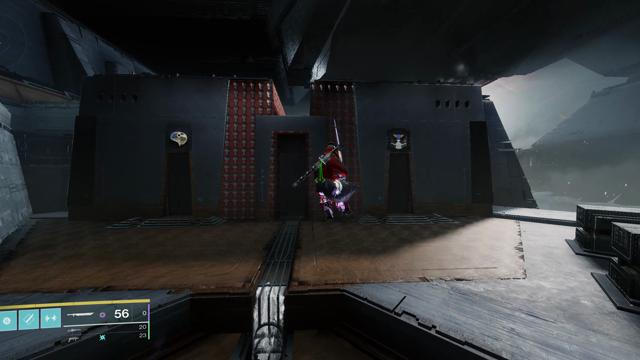brain: (169, 129, 189, 147)
drink: (390, 131, 408, 150)
